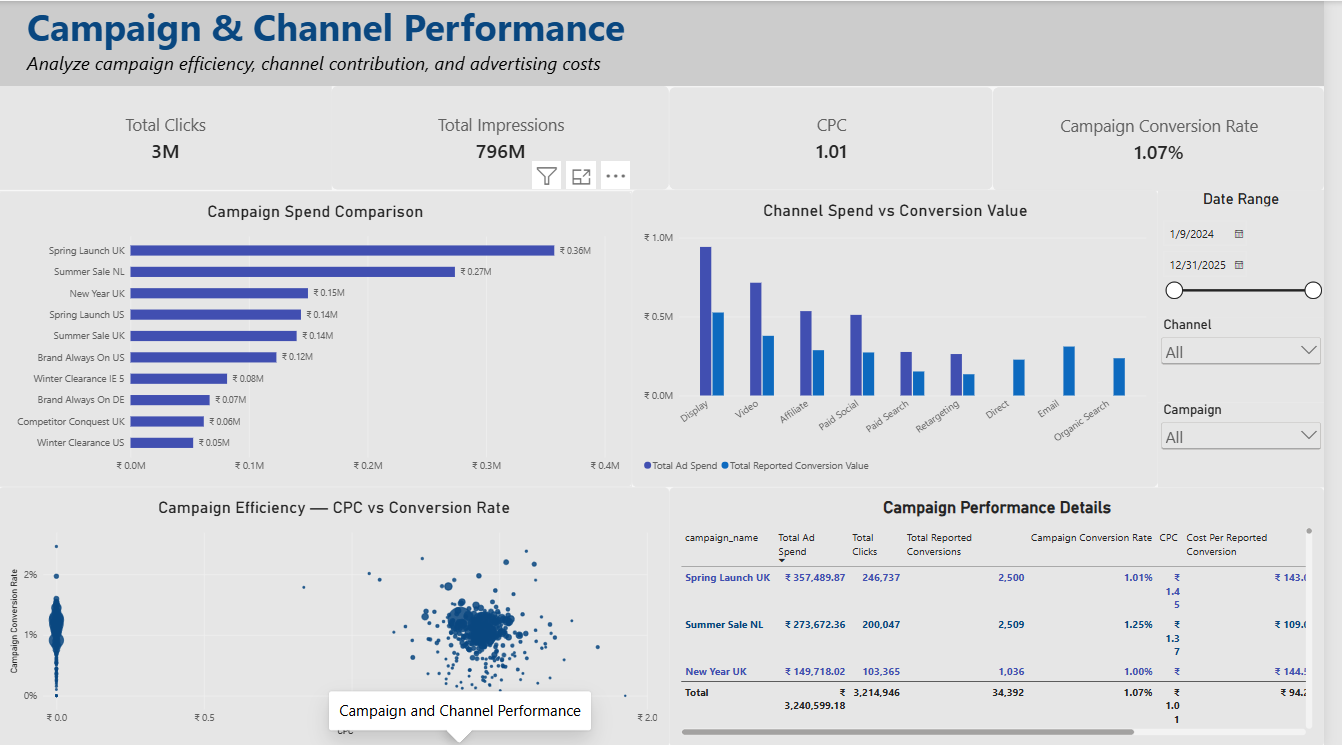

Layout of this report page (visuals, bound fields, positions):
{"tool":"powerbi","page":{"name":"Campaign and Channel Performance","canvas":[1920,1080],"ordinal":1},"visuals":[{"type":"textbox","box":[0,0,1920.1,123.1],"z":0},{"type":"slicer","title":"Date Range","fields":{"Values":["DimDate.Date"]},"box":[1679.4,273.3,240.7,184.6],"z":1000},{"type":"slicer","fields":{"Values":["public dim_channel.channel_name"]},"box":[1679.4,457.8,240.7,123.1],"z":2000},{"type":"slicer","fields":{"Values":["public dim_campaign.campaign_name"]},"box":[1679.4,580.9,240.7,123.1],"z":3000},{"type":"cardVisual","fields":{"Data":["public fact_daily_performance.Total Clicks"]},"box":[0,123.1,483.2,150.2],"z":4000},{"type":"cardVisual","fields":{"Data":["public fact_daily_performance.Total Impressions"]},"box":[483.2,123.1,488.6,150.2],"z":5000},{"type":"cardVisual","title":"Average CPC","fields":{"Data":["public fact_daily_performance.CPC"]},"box":[971.8,124.9,468.7,148.4],"z":6000},{"type":"cardVisual","fields":{"Data":["public fact_daily_performance.Campaign Conversion Rate"]},"box":[1440.5,124.9,479.6,150.2],"z":7000},{"type":"clusteredBarChart","title":"Campaign Spend Comparison","fields":{"Category":["public dim_campaign.campaign_name"],"Y":["public fact_daily_performance.Total Ad Spend"]},"box":[0,275.1,917.5,428.9],"z":8000},{"type":"clusteredColumnChart","title":"Channel Spend vs Conversion Value","fields":{"Category":["public dim_channel.channel_name"],"Y":["public fact_daily_performance.Total Ad Spend","public fact_daily_performance.Total Reported Conversion Value"]},"box":[917.5,273.3,761.9,430.7],"z":9000},{"type":"scatterChart","title":"Campaign Efficiency — CPC vs Conversion Rate","fields":{"Category":["public dim_campaign.campaign_name"],"Size":["public fact_daily_performance.Total Reported Conversions"],"X":["public fact_daily_performance.CPC"],"Y":["public fact_daily_performance.Campaign Conversion Rate"]},"box":[0,704,971.8,376.4],"z":10000},{"type":"tableEx","title":"Campaign Performance Details","fields":{"Values":["public dim_campaign.campaign_name","public fact_daily_performance.Total Ad Spend","public fact_daily_performance.Total Clicks","public fact_daily_performance.Total Reported Conversions","public fact_daily_performance.Campaign Conversion Rate","public fact_daily_performance.CPC","public fact_daily_performance.Cost Per Reported Conversion","public fact_daily_performance.Total Reported Conversion Value","public fact_daily_performance.Campaign ROAS"]},"box":[972,704,948,376],"z":11000}]}

Visuals, with their boxes in screenshot pixels (x1, y1, x2, y2), scaled from the page's 1920x1080 canvas onto the 1342x745 screenshot:
textbox: 0,0,1341,85
"Date Range" slicer: 1174,189,1341,316
slicer - public dim_channel.channel_name: 1174,316,1341,401
slicer - public dim_campaign.campaign_name: 1174,401,1341,486
cardVisual - public fact_daily_performance.Total Clicks: 0,85,338,189
cardVisual - public fact_daily_performance.Total Impressions: 338,85,679,189
"Average CPC" cardVisual: 679,86,1007,189
cardVisual - public fact_daily_performance.Campaign Conversion Rate: 1007,86,1341,190
"Campaign Spend Comparison" clusteredBarChart: 0,190,641,486
"Channel Spend vs Conversion Value" clusteredColumnChart: 641,189,1174,486
"Campaign Efficiency — CPC vs Conversion Rate" scatterChart: 0,486,679,744
"Campaign Performance Details" tableEx: 679,486,1341,744
